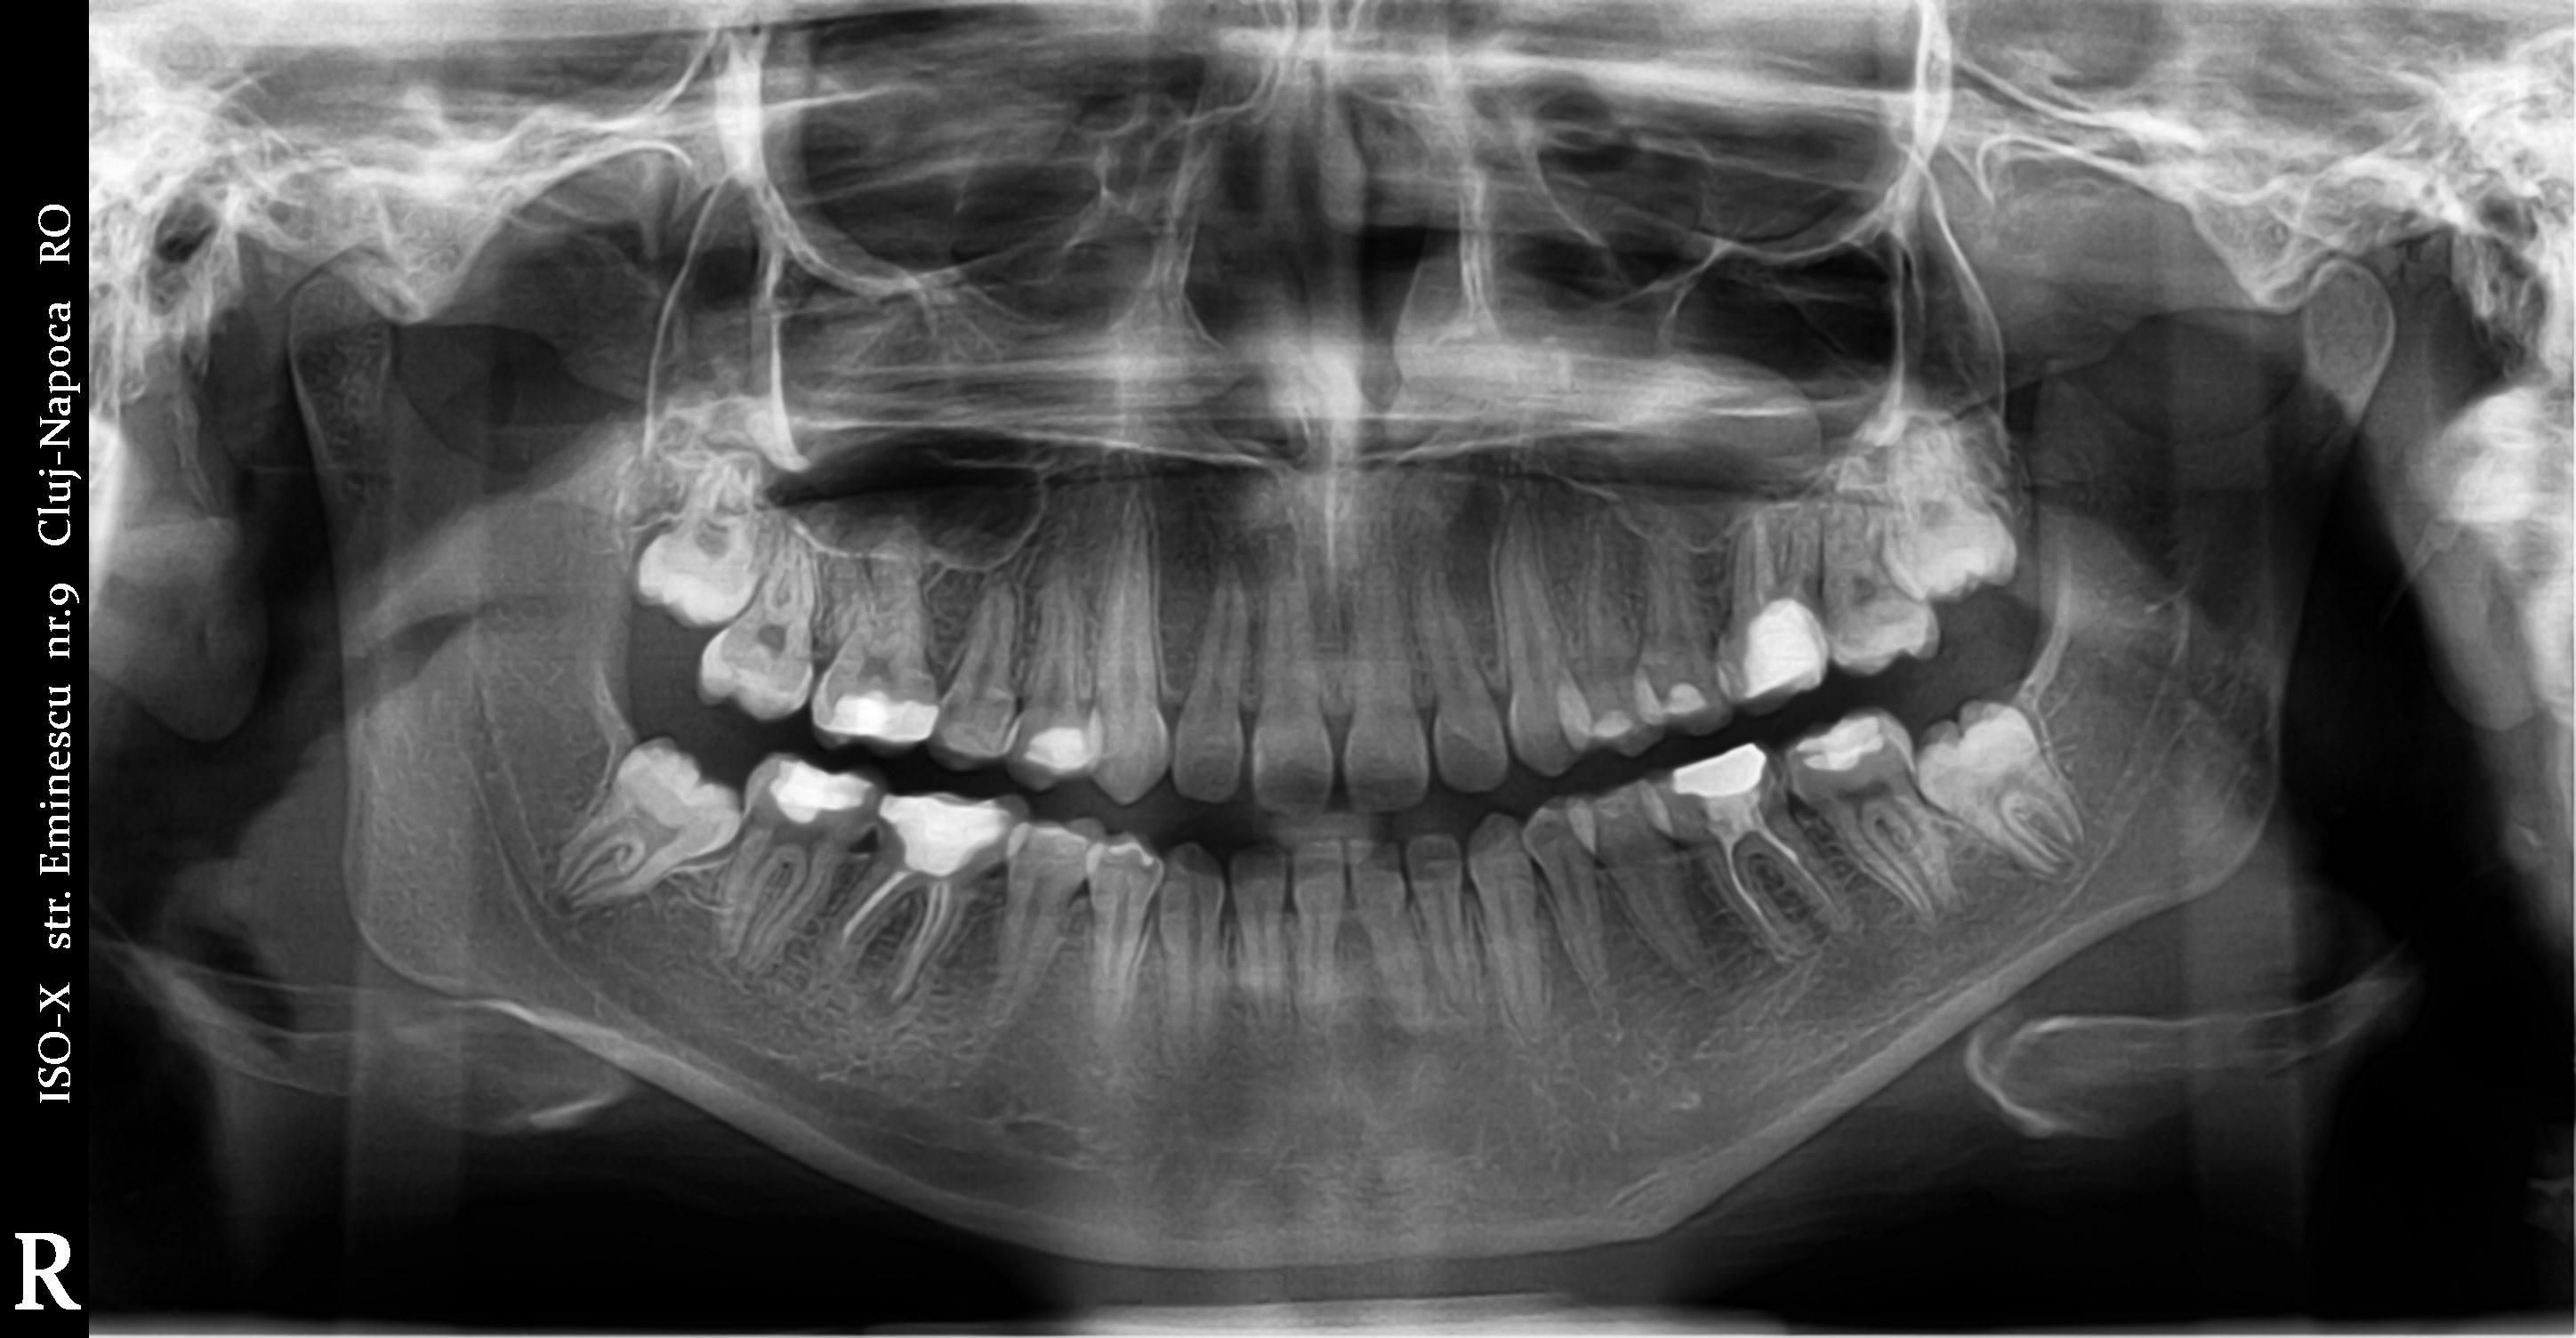API: (850, 972, 939, 1040)
END: (811, 873, 973, 999), (1704, 823, 1840, 956)
IMT: (523, 716, 746, 949), (1908, 687, 2113, 898), (1876, 390, 2038, 600), (629, 452, 797, 637)
OBT: (1726, 580, 1847, 701), (879, 777, 1027, 869), (826, 666, 939, 765), (760, 747, 876, 837), (1663, 730, 1785, 805), (1791, 701, 1900, 784), (1005, 706, 1116, 781), (1692, 789, 1779, 842), (1642, 668, 1721, 724), (1024, 813, 1104, 866), (1102, 828, 1160, 878), (1593, 694, 1637, 748)
